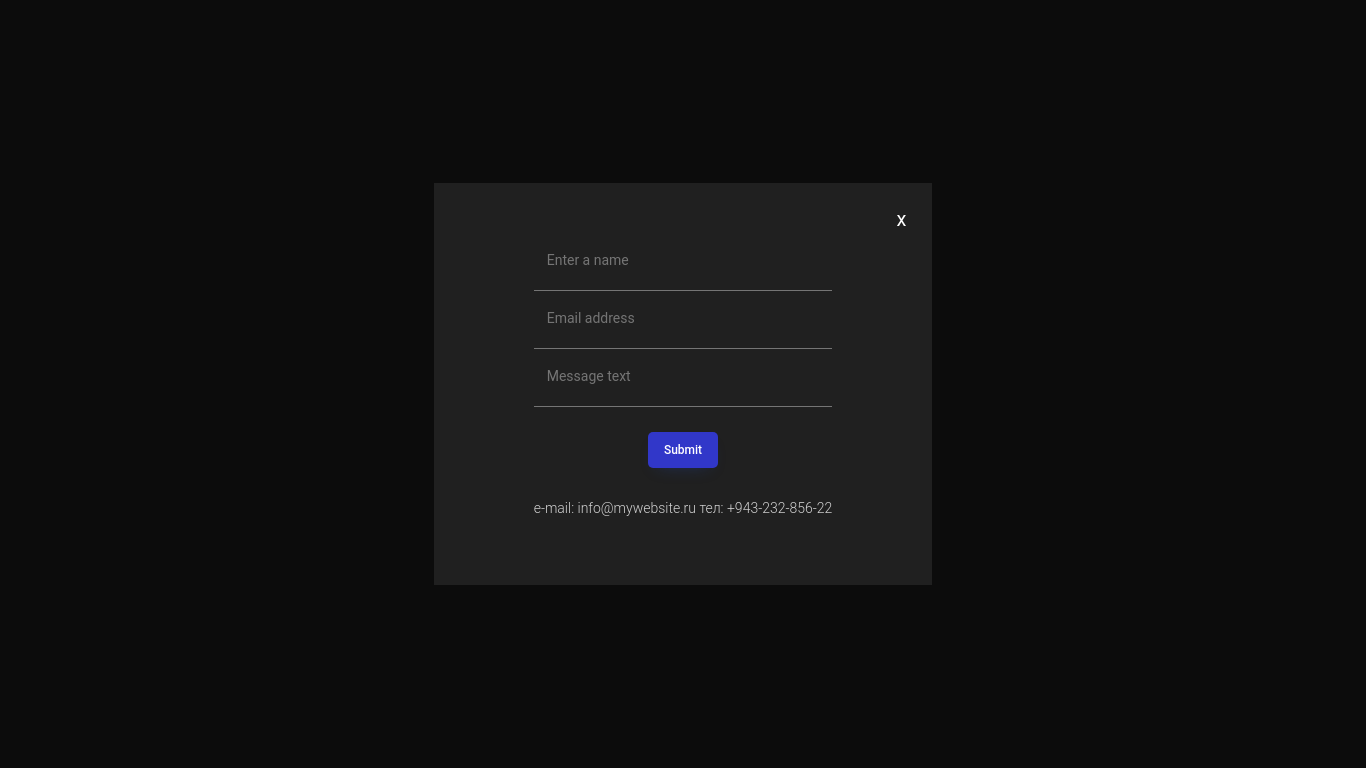
Scenario: Modal Component › validates form fields and shows errors
The width and height of the screenshot is (1366, 768).
Click the button "Submit".
click(683, 450)  # box [648, 432, 718, 468]
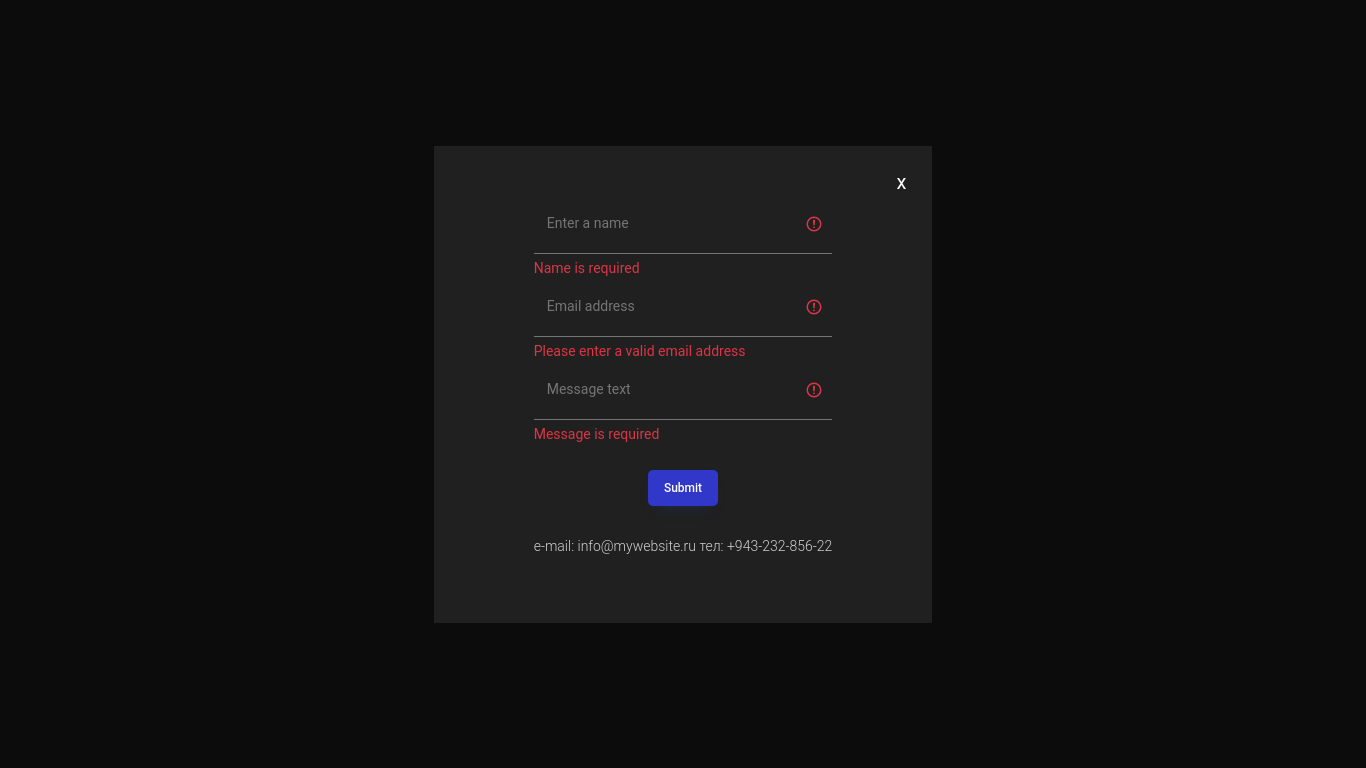
Result: the text "Name is required" is shown at [534, 260, 640, 276]
Result: the text "Please enter a valid email address" is shown at [534, 342, 746, 358]
Result: the text "Message is required" is shown at [534, 426, 659, 442]
